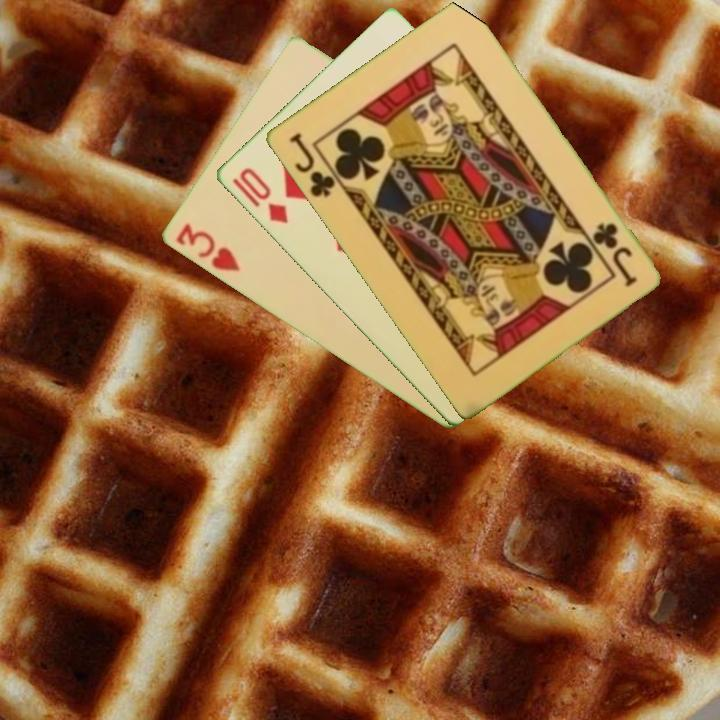10d: (235, 164, 291, 227)
3h: (172, 219, 243, 275)
Jc: (285, 129, 346, 200), (588, 219, 639, 290)
